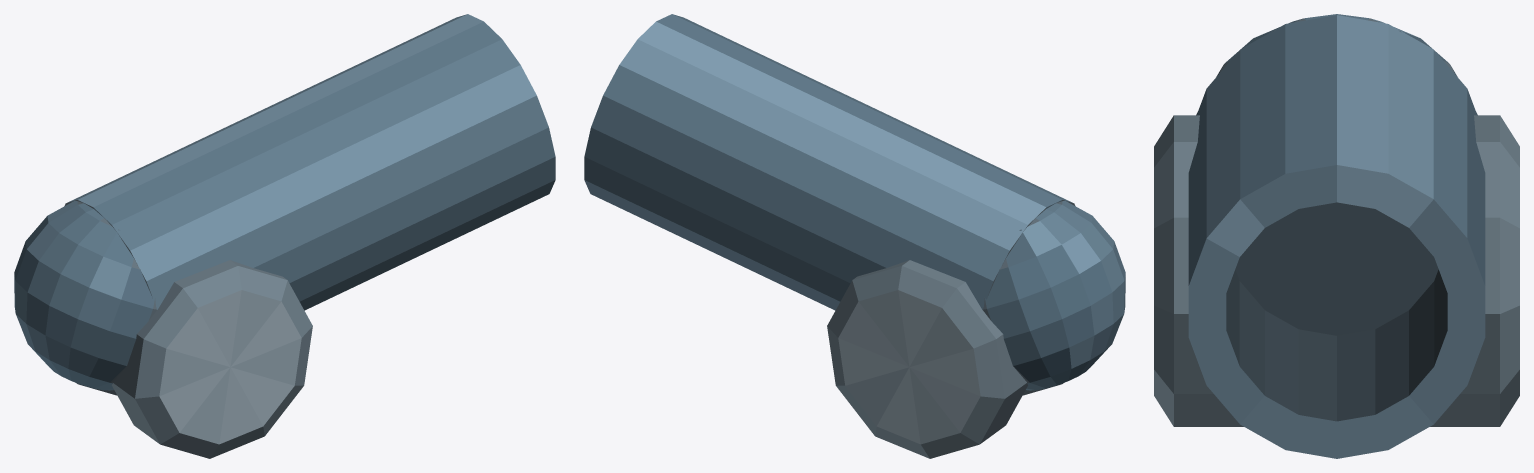
File: schucannon.gltf
The picture shows the model from 3 angles, left to right: view 1: azimuth 30°, elevation 25°; view 2: azimuth 150°, elevation 25°; view 3: azimuth 270°, elevation 25°; orthographic projection. The views are drawn at different scales.
Parts seen in each view (by area): view 1: sphere, cylinder; view 2: sphere, cylinder; view 3: sphere, cylinder (×2).
Part boxes in pixels (x1,y1,x2,y2): sphere: (14,14,555,390); cylinder: (112,260,312,458); sphere: (584,14,1125,390); cylinder: (827,260,1027,458); sphere: (1188,14,1485,458); cylinder (×2): (1154,115,1519,426).
Bounding box in the file's own units: 0.5418 × 0.3319 × 0.2313.
Materials: 2 (2 with a texture image).
